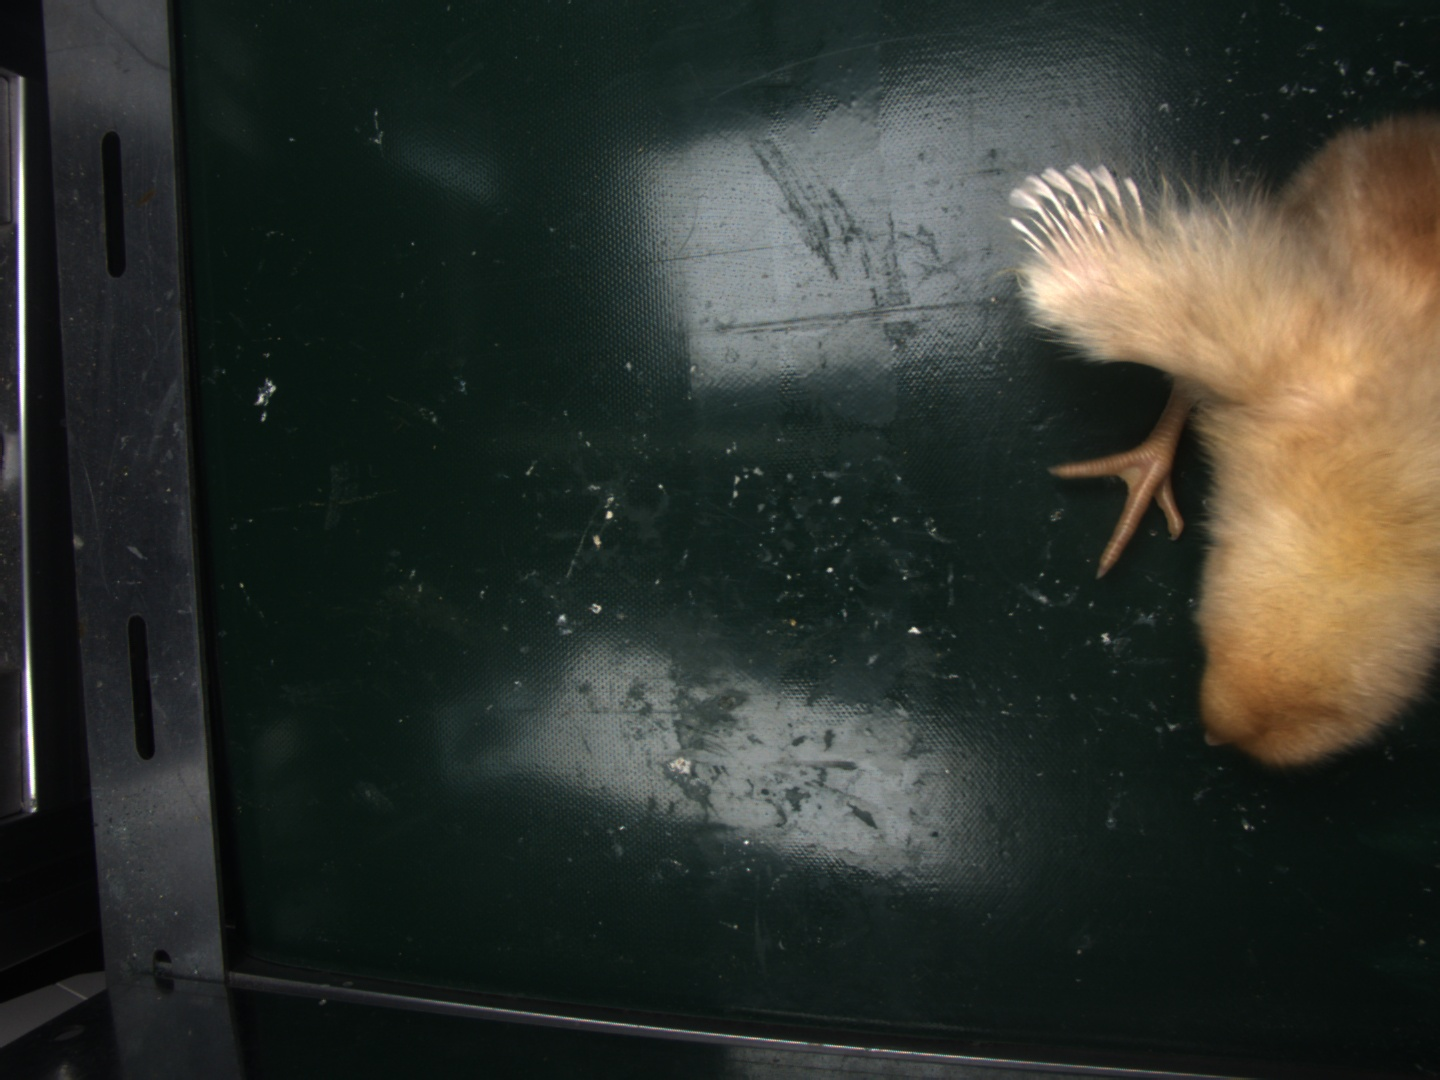female: (1011, 164, 1136, 268)
